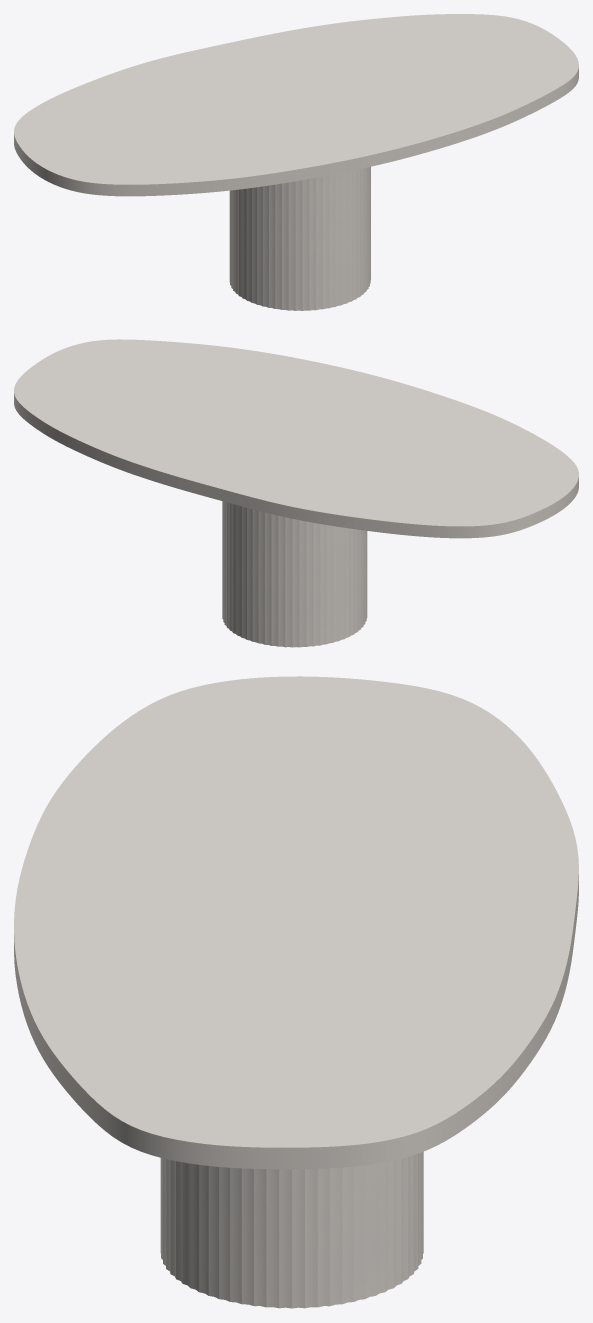
The model's file is pearlwhite_danish_standard_ripple.glb.
3 renders of one model, top to bottom at view 1: azimuth 30°, elevation 25°; view 2: azimuth 150°, elevation 25°; view 3: azimuth 270°, elevation 25°, orthographic. The views are drawn at different scales.
Visible parts, largest first — view 1: standard_danish, ripple; view 2: standard_danish, ripple; view 3: standard_danish, ripple.
Boxes of the visible parts, x1,y1,x2,y2 form: standard_danish: [14, 14, 578, 196]; ripple: [229, 167, 370, 310]; standard_danish: [14, 339, 578, 538]; ripple: [222, 501, 367, 647]; standard_danish: [14, 676, 578, 1169]; ripple: [160, 1151, 423, 1308].
Bounding box in the file's own units: 7.5 × 2.51 × 3.8.
1 material, 1 textured.
